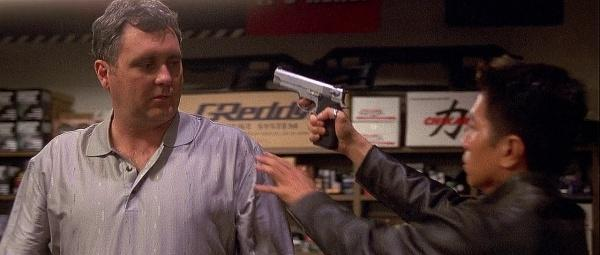Gun: (270, 65, 347, 151)
